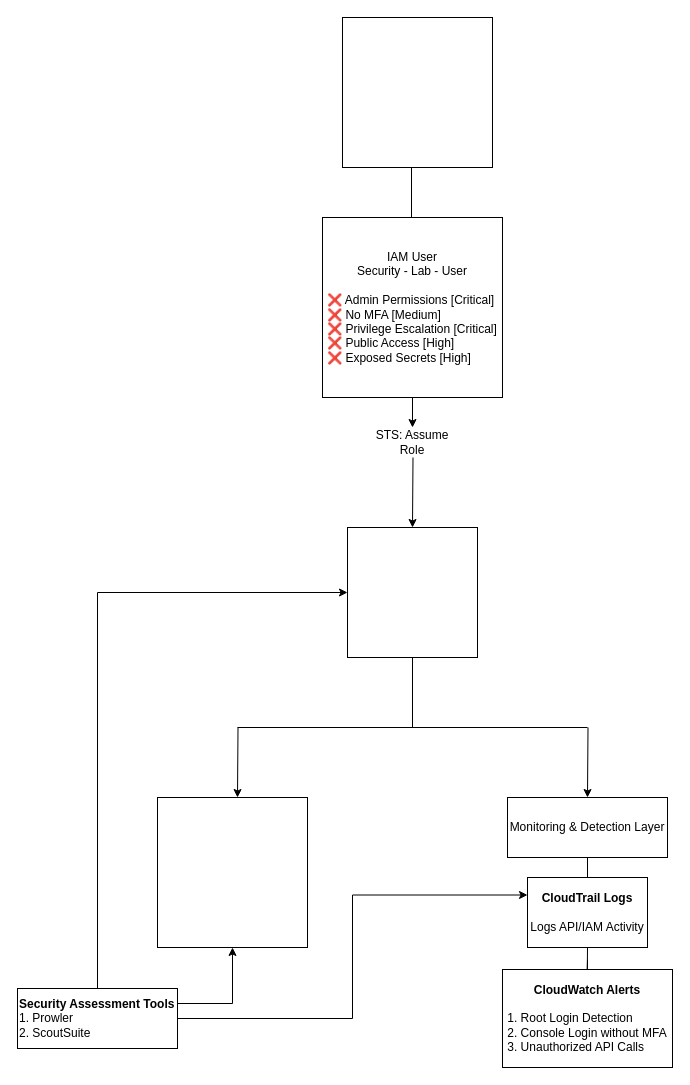
Some shapes in this 690 by 1085 pixel diagram are drawn without their labels. Here are the shapes that lost their labels. From the top down, the box of each, then its label:
(342, 16, 492, 168): Threat Actor / Compromised IAM User (AWS CLI / Console)
(346, 526, 478, 658): Vulnerable IAM Role Vulnerable-admin-role ❌ Privilege Escalation
(156, 796, 308, 948): S3 Bucket Security - lab - bucket ❌ Public ❌ Access Exposed Secrets
